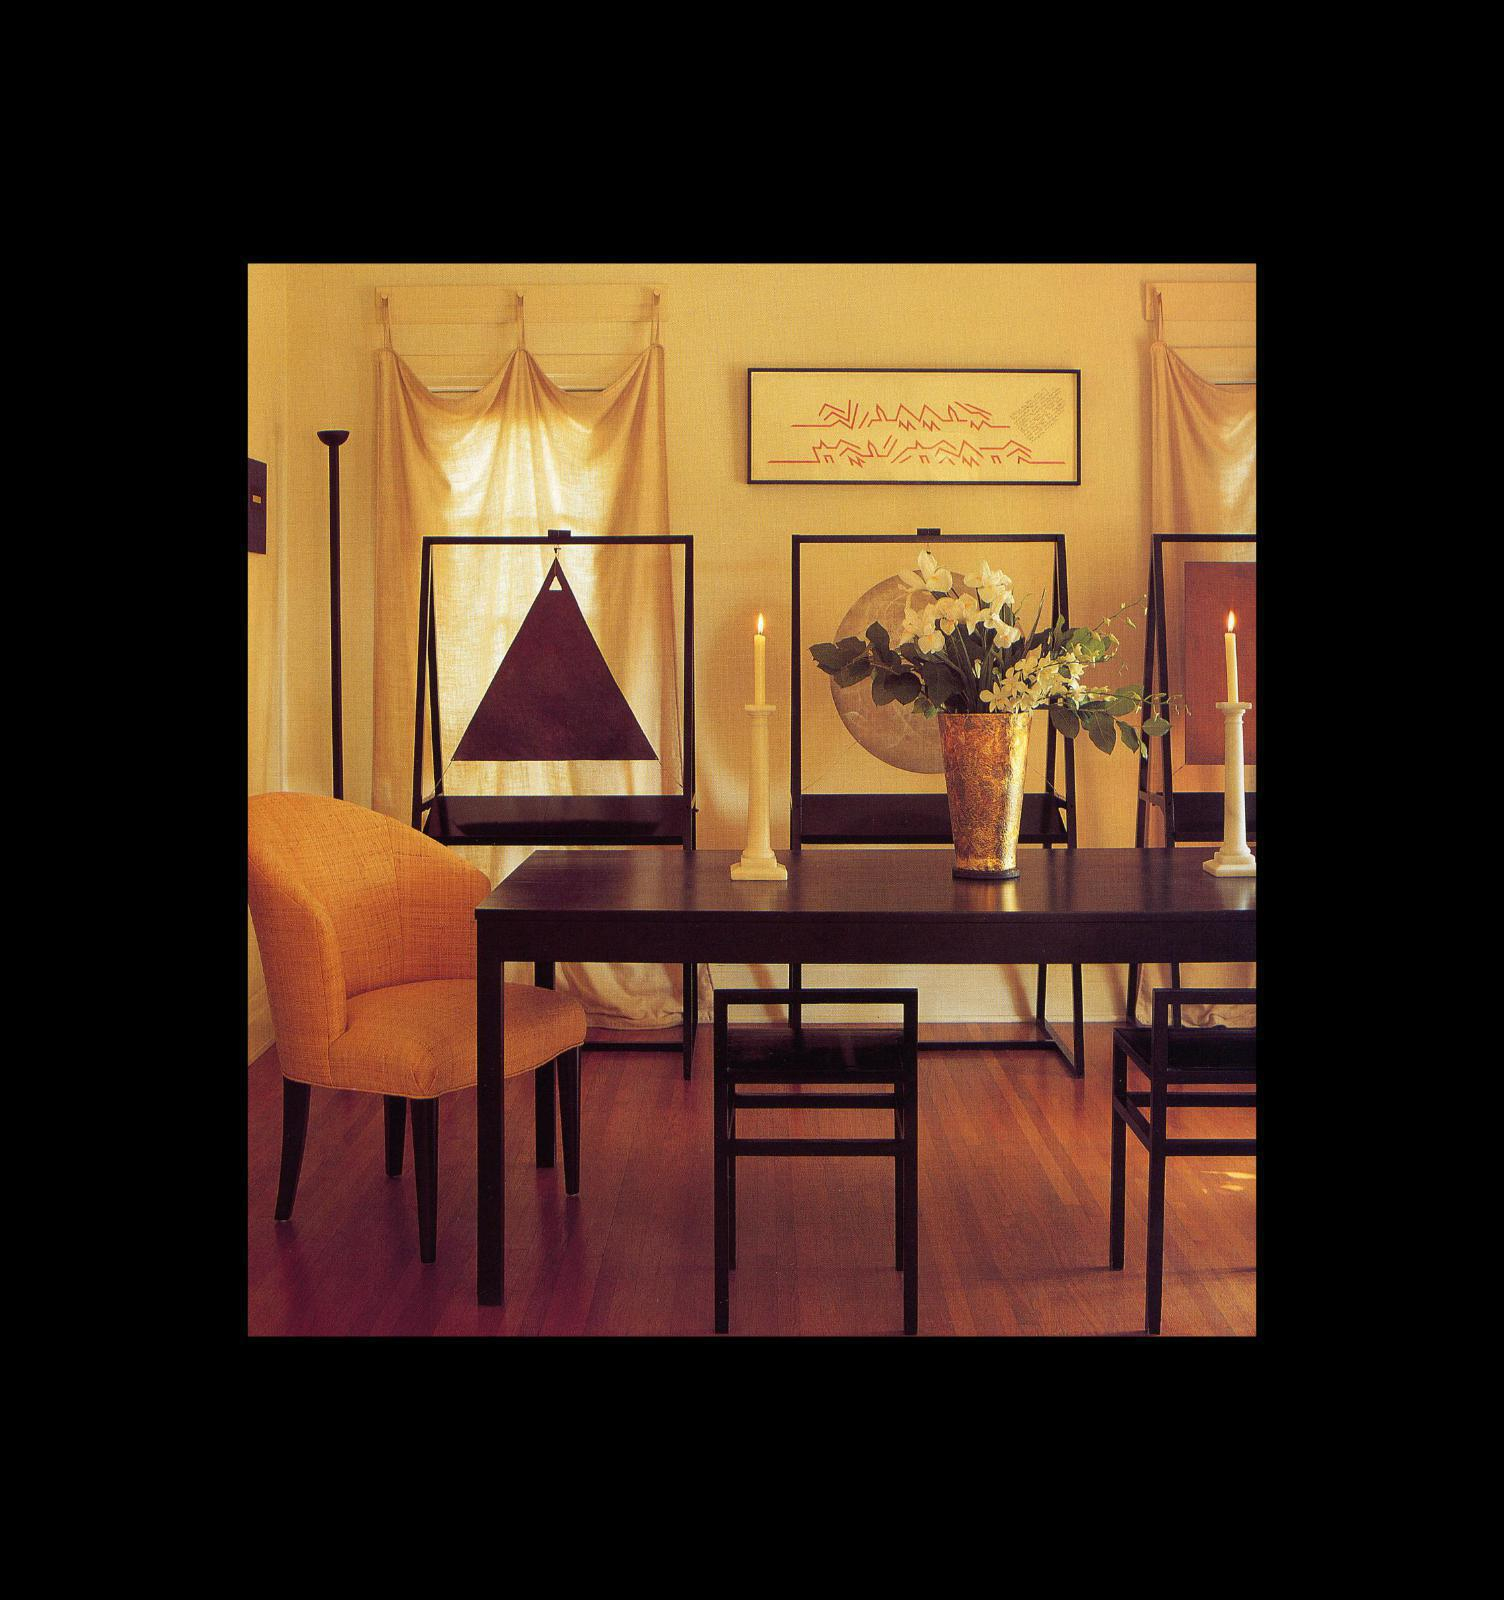Otro Obstaculo: (775, 517, 1077, 1060), (389, 526, 708, 847), (1122, 516, 1252, 1046)
